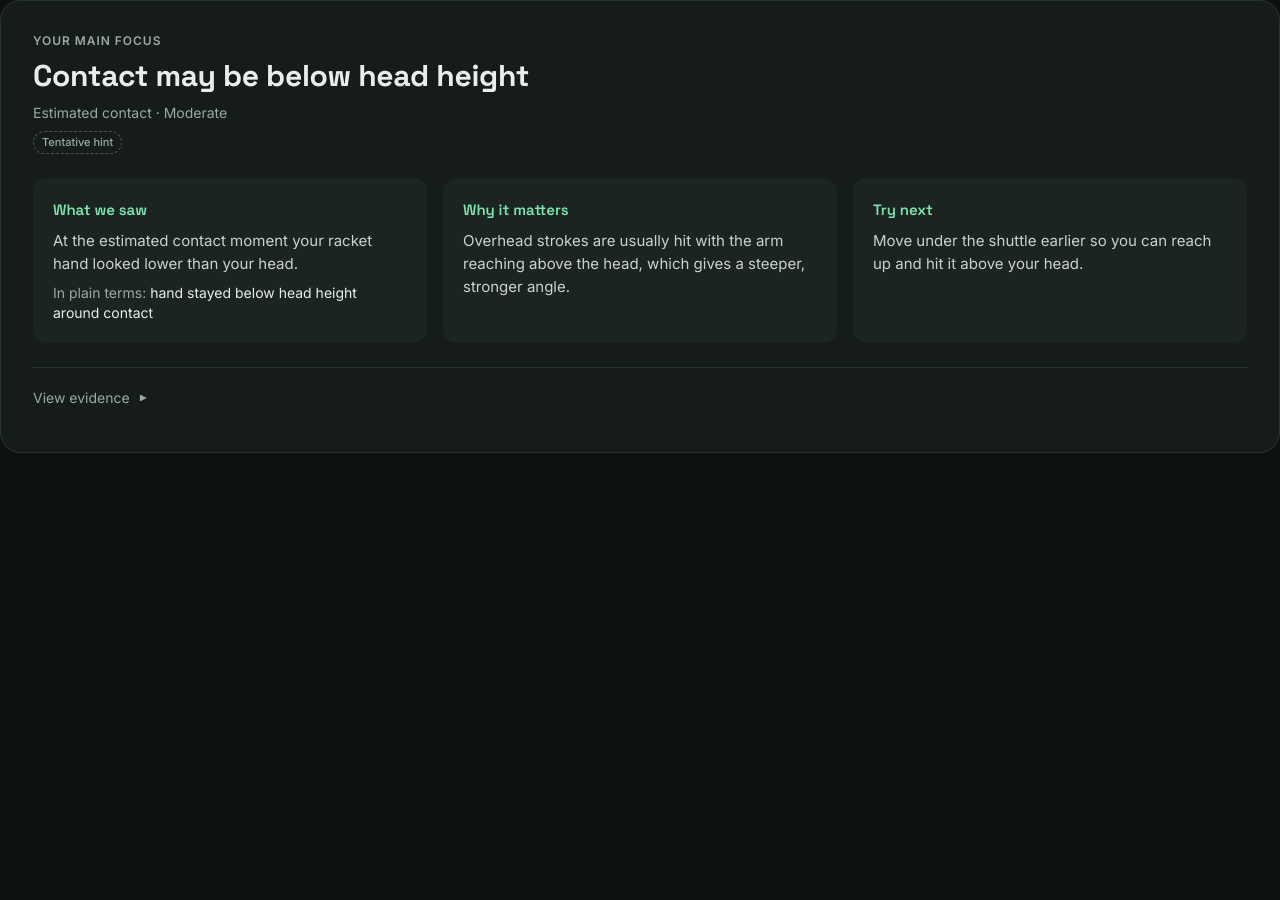
Scenario: TechniqueIssueCard tiered rules › marks tentative issues as hints and uses tiered copy
This screenshot has width=1280, height=900.
expect the heading "Contact may be below head height" is shown: met, box 33,57 -> 529,94
expect the text "Tentative hint" is shown: met, box 33,130 -> 122,154
Click the heading "View evidence".
click(81, 398)  # box 33,389 -> 130,406
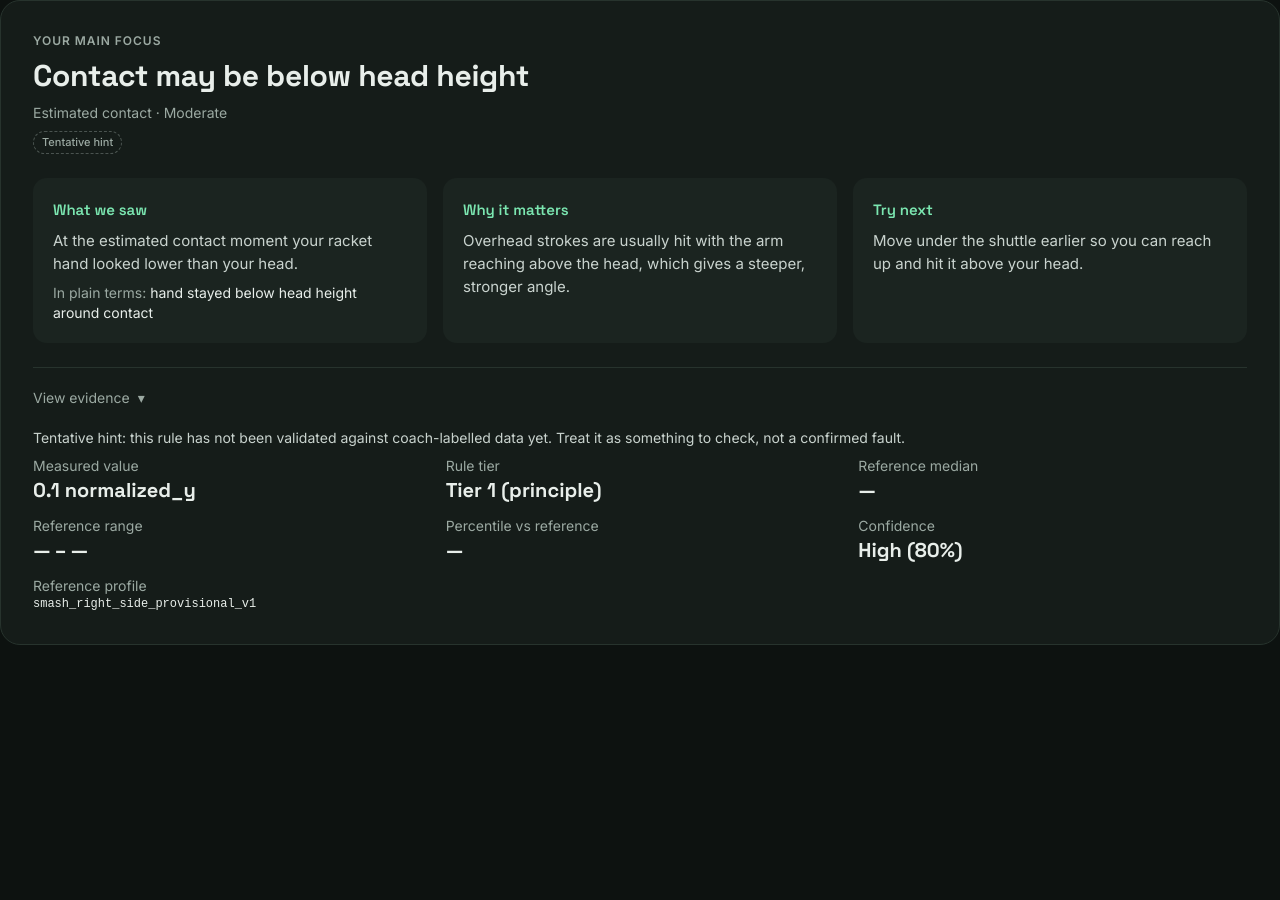
expect the text "Tier 1 (principle)" is shown: met, box 446,477 -> 602,503
